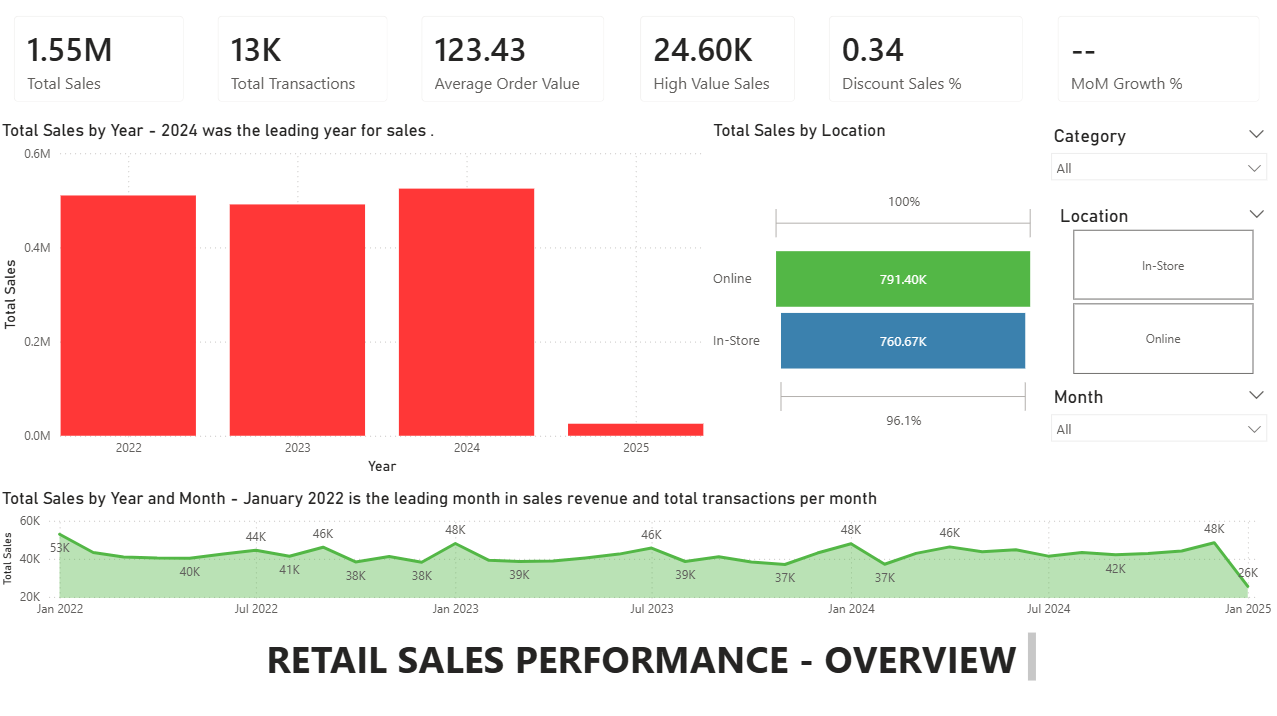

The dashboard page shown, as its layout file describes it:
{"tool":"powerbi","page":{"name":"Retail Sales Performance - Overview","canvas":[1280,720],"ordinal":0},"visuals":[{"type":"cardVisual","fields":{"Data":["_Measures.Total Sales"]},"box":[0,0,204,120.7],"z":0},{"type":"cardVisual","fields":{"Data":["_Measures.Total Transactions"]},"box":[204,0,204,120.7],"z":1000},{"type":"cardVisual","fields":{"Data":["_Measures.Average Order Value"]},"box":[408,0,217.7,120.7],"z":2000},{"type":"slicer","fields":{"Values":["dim_location.Location"]},"box":[1043.7,388.1,230.1,92.1],"z":3000},{"type":"cardVisual","fields":{"Data":["_Measures.Discount Sales %"]},"box":[814.8,0,190.3,120.7],"z":4000},{"type":"cardVisual","fields":{"Data":["_Measures.High Value Sales"]},"box":[625.7,0,189.1,120.7],"z":5000},{"type":"slicer","fields":{"Values":["dim_product.Category"]},"box":[1043.7,120.7,236.4,267.5],"z":6000},{"type":"slicer","fields":{"Values":["dim_date.Month"]},"box":[1043.7,480.2,236.4,98.3],"z":7000},{"type":"lineChart","fields":{"Category":["dim_date.Date.Variation.Date Hierarchy.Year","dim_date.Date.Variation.Date Hierarchy.Quarter","dim_date.Date.Variation.Date Hierarchy.Month","dim_date.Date.Variation.Date Hierarchy.Day"],"Y":["_Measures.Total Sales"]},"box":[0,158,486.4,422.9],"z":8000},{"type":"clusteredBarChart","fields":{"Category":["dim_location.Location"],"Y":["_Measures.Total Sales"]},"box":[476.4,158,495.1,408],"z":9000},{"type":"textbox","box":[263.7,628.2,780,58.5],"z":10000},{"type":"cardVisual","fields":{"Data":["_Measures.MoM Growth %"]},"box":[1005.1,0,236.4,120.7],"z":11000}]}

Visuals, with their boxes in screenshot pixels (x1, y1, x2, y2), scaled from the page's 1280x720 canvas onto the 1277x716 screenshot:
cardVisual - _Measures.Total Sales: [0,0,204,120]
cardVisual - _Measures.Total Transactions: [204,0,407,120]
cardVisual - _Measures.Average Order Value: [407,0,624,120]
slicer - dim_location.Location: [1041,386,1271,478]
cardVisual - _Measures.Discount Sales %: [813,0,1003,120]
cardVisual - _Measures.High Value Sales: [624,0,813,120]
slicer - dim_product.Category: [1041,120,1276,386]
slicer - dim_date.Month: [1041,478,1276,575]
lineChart - dim_date.Date.Variation.Date Hierarchy.Year x dim_date.Date.Variation.Date Hierarchy.Quarter: [0,157,485,578]
clusteredBarChart - dim_location.Location x _Measures.Total Sales: [475,157,969,563]
textbox: [263,625,1041,683]
cardVisual - _Measures.MoM Growth %: [1003,0,1239,120]
